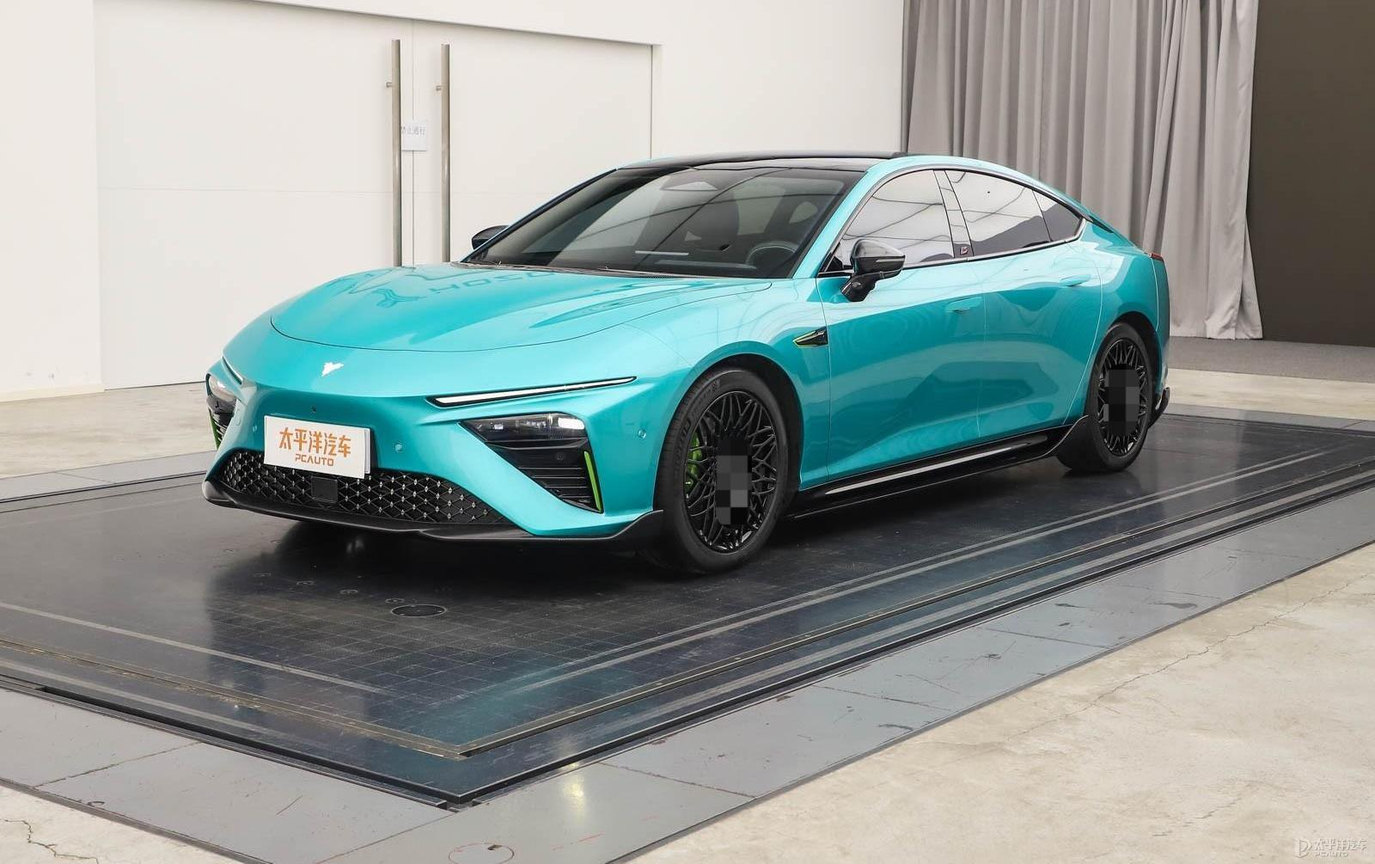NETA: (321, 360, 345, 377)
